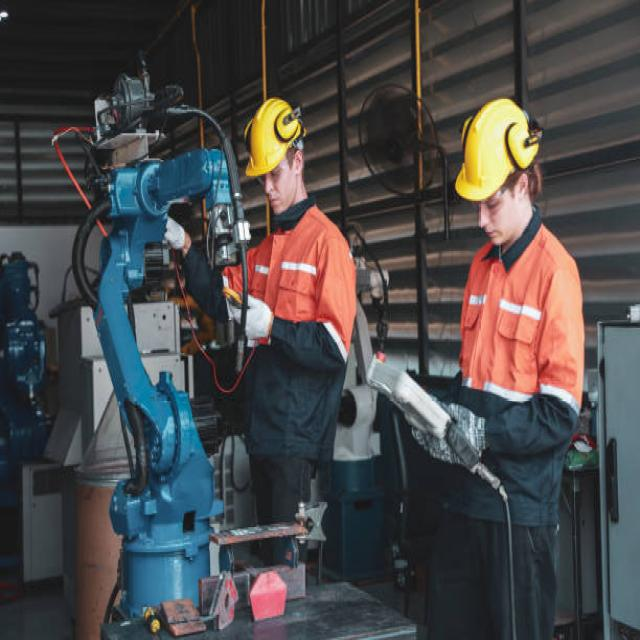Robotic-arm: (72, 147, 242, 629)
